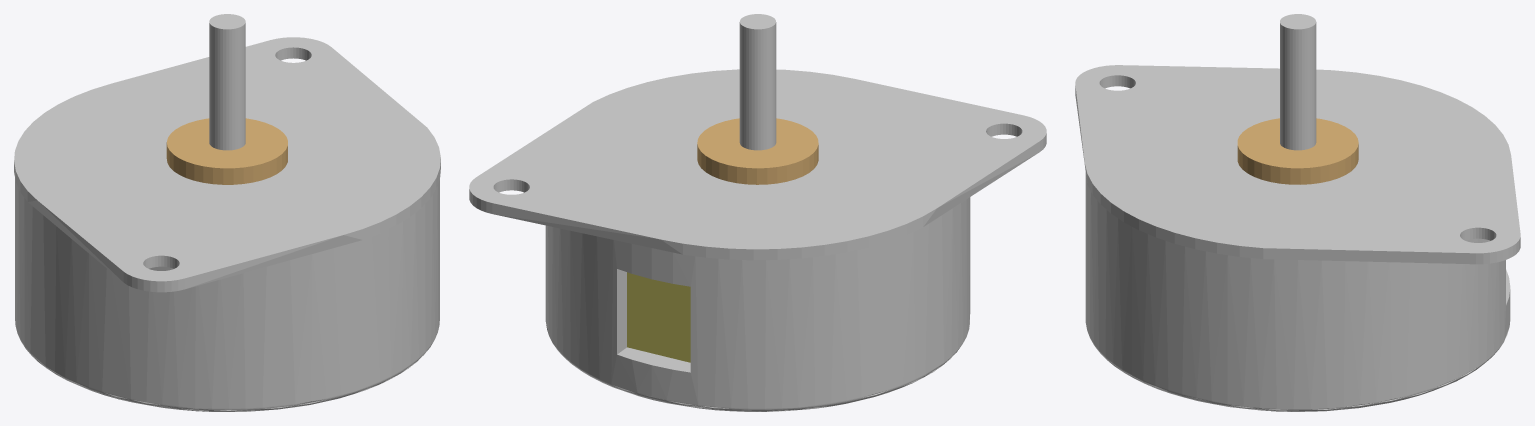
3 views of the same model, side by side, from view 1: azimuth 30°, elevation 25°; view 2: azimuth 150°, elevation 25°; view 3: azimuth 270°, elevation 25° (orthographic).
Parts seen in each view (by area): view 1: _0551; view 2: _0551; view 3: _0551.
Boxes of the visible parts, <box> form: _0551: <box>14,14,440,411</box>; _0551: <box>469,14,1046,411</box>; _0551: <box>1075,14,1520,411</box>.
Size of the model in its own units: 36.69 by 36.69 by 28.1.
